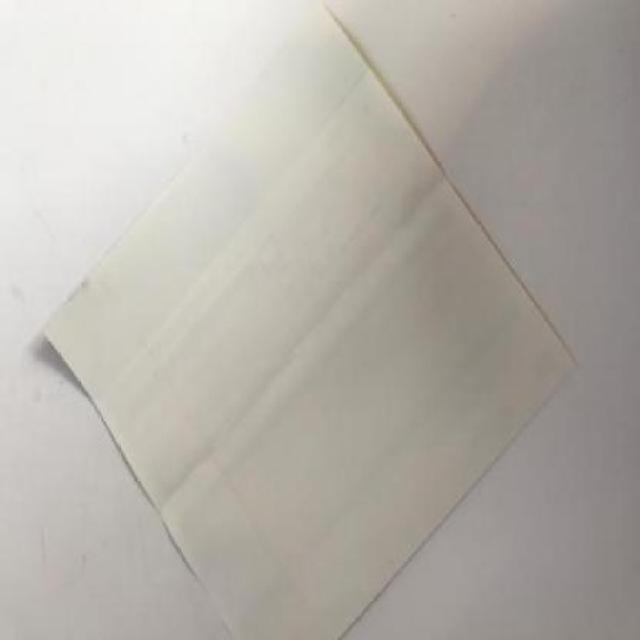PAPER: (38, 1, 576, 638)
